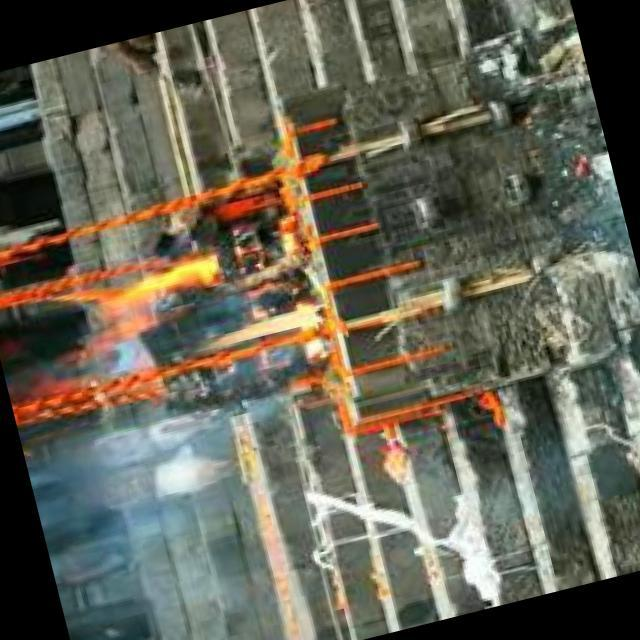Fire: (44, 221, 334, 412)
